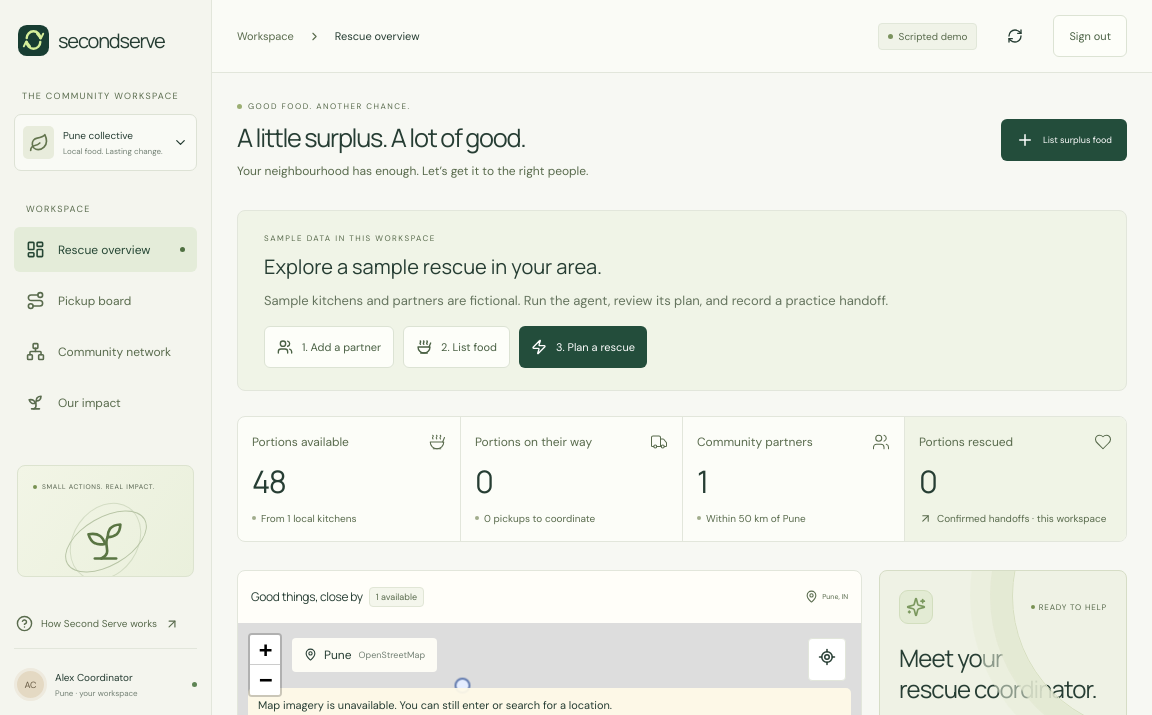
Test: coordinator interface › posts a real form payload and refreshes the listing view
The image size is (1152, 715).
Step 1. Click the button "List surplus food" → point(1064, 140), box [1001,119,1127,161]
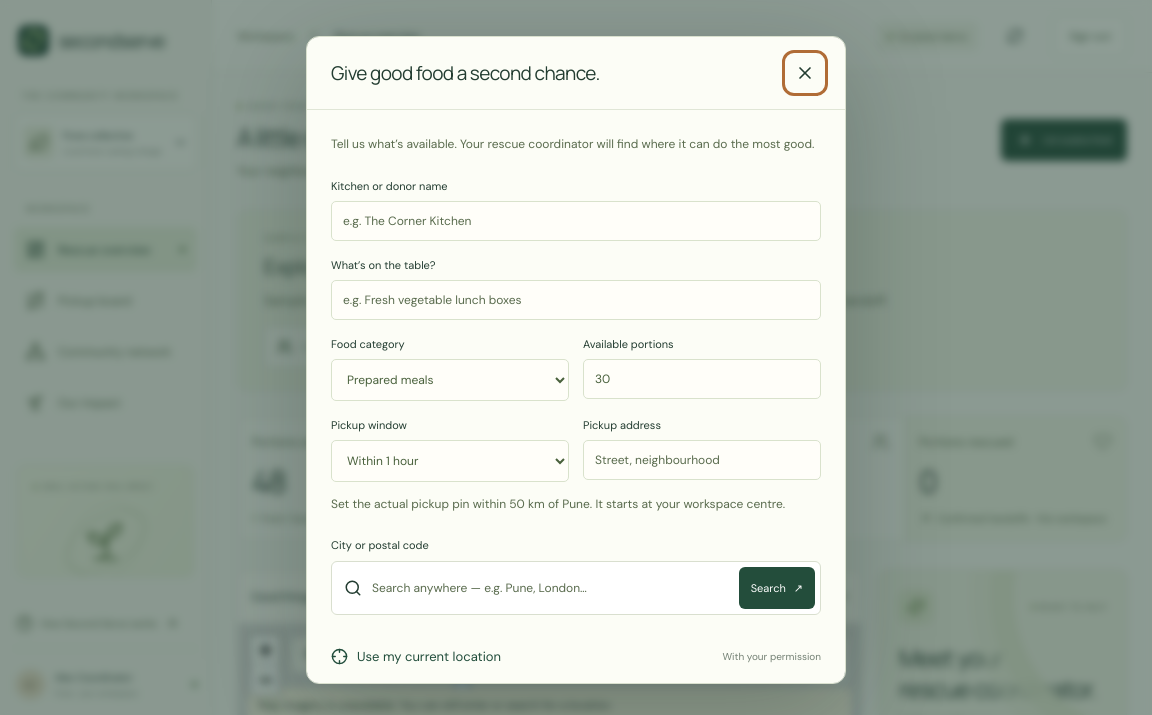
Step 2. Type "Test Kitchen" into the field labelled "Kitchen or donor name" → point(576, 221), box [331,201,821,241]
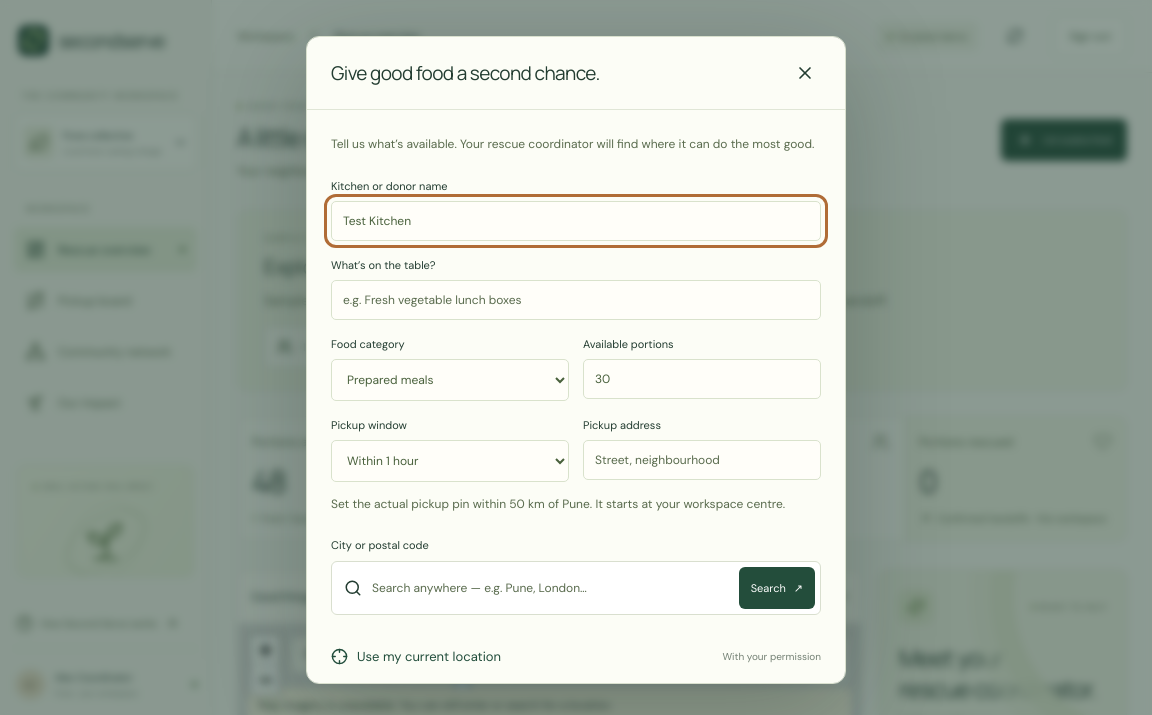
Step 3. Type "Vegetable rice" into the field labelled "What’s on the table?" → point(576, 300), box [331,280,821,320]
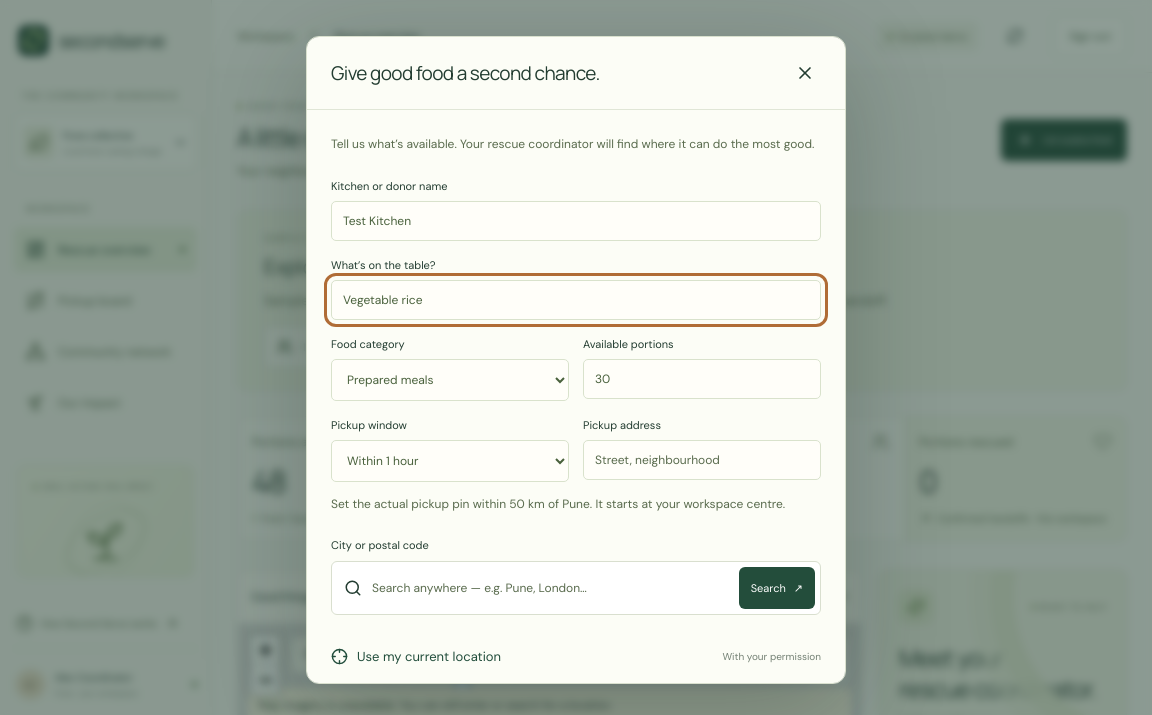
Step 4. Type "12th Main" into the field labelled "Pickup address" → point(702, 460), box [583,440,821,480]
(page scrolled)
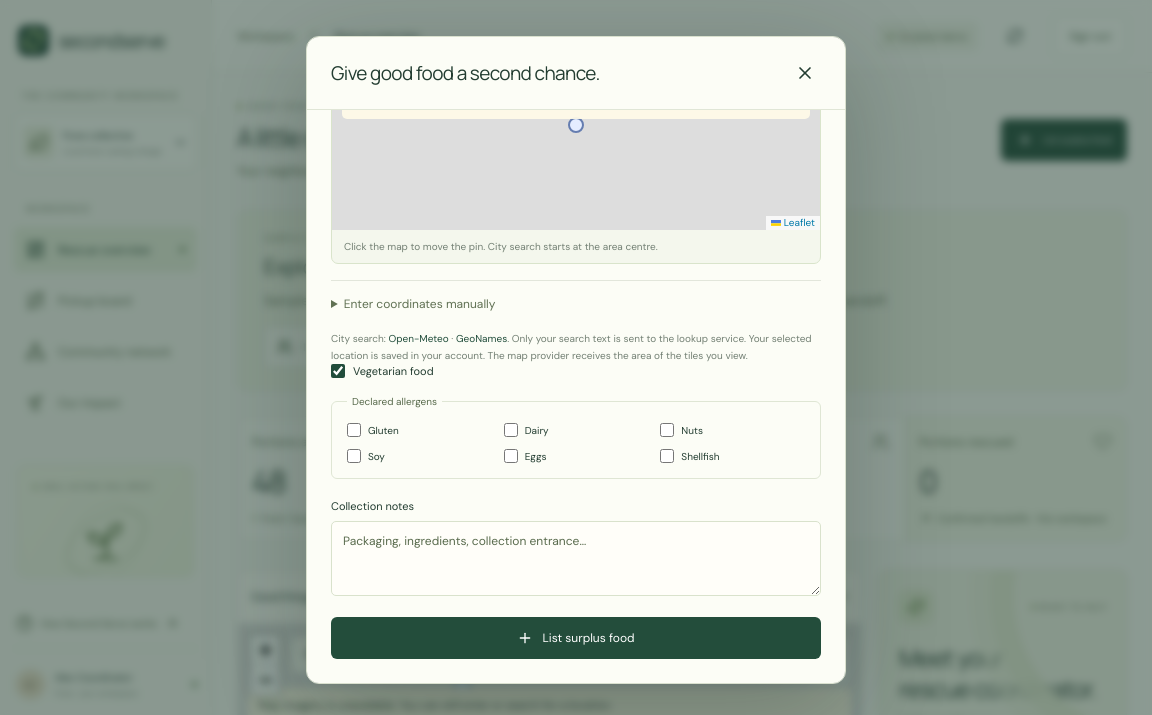
Step 5. Click the button "List surplus food" → point(576, 638), box [331,617,821,659]
(page scrolled)
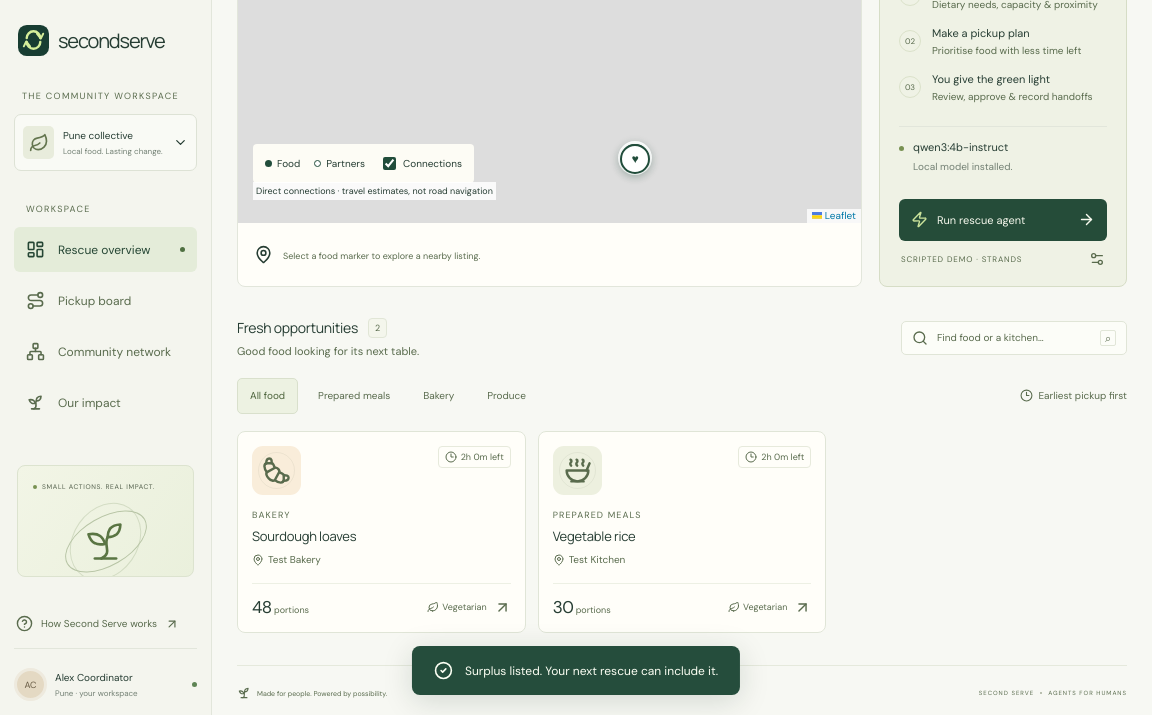
Expected: the dialog is gone
Expected: the heading "Vegetable rice" is shown, [553,527,636,545]
